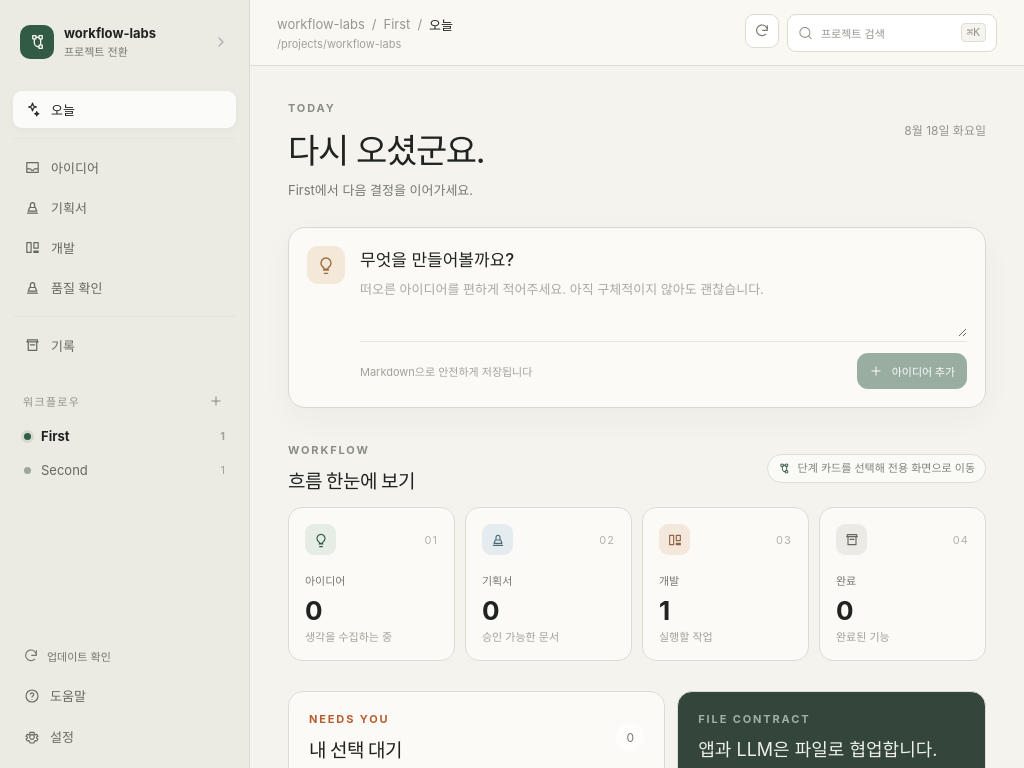
Test: WorkspaceShell › isolates an opened and an in-flight task detail when the workflow changes
Click the button "개발": (124,248) [13,229,236,266]
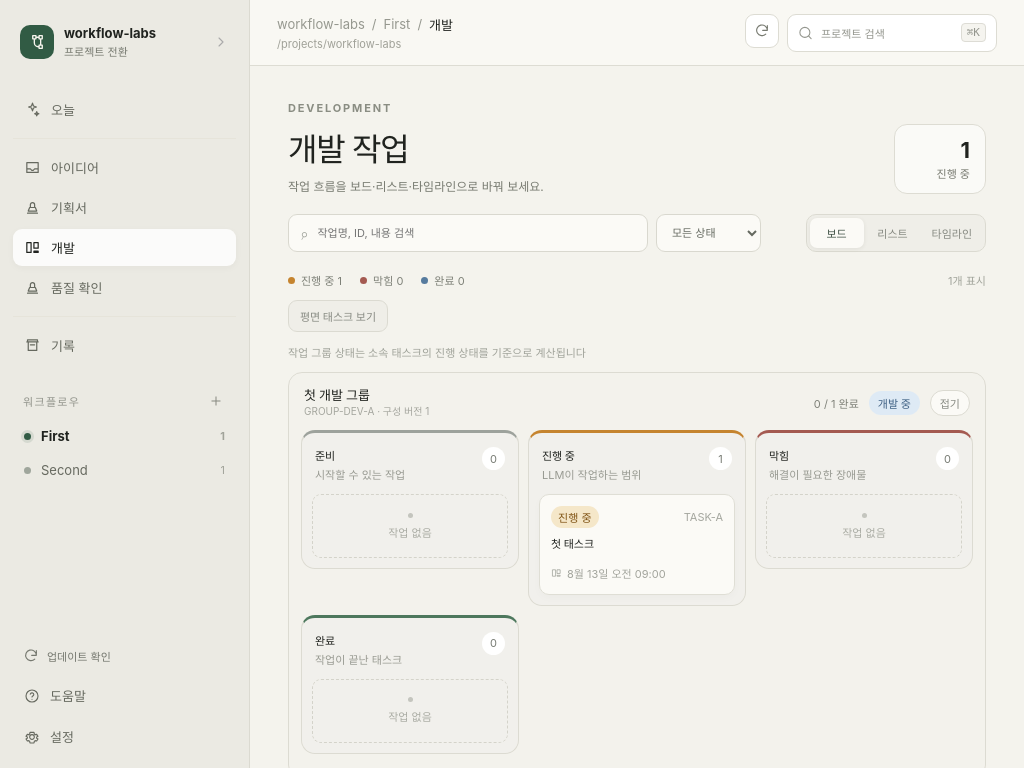
Click the button "첫 태스크": (637,544) [539,494,735,595]
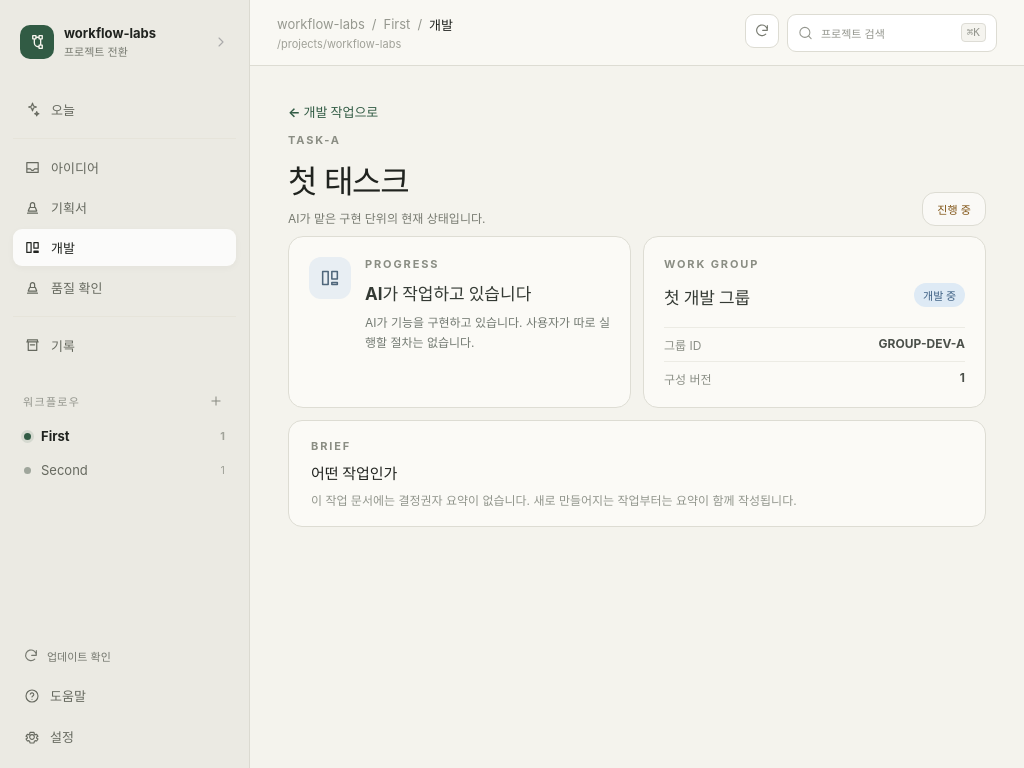
Expected: the heading "첫 태스크" is shown, [288,162,408,201]
Click the button "Second 1": (124,470) [13,453,236,487]
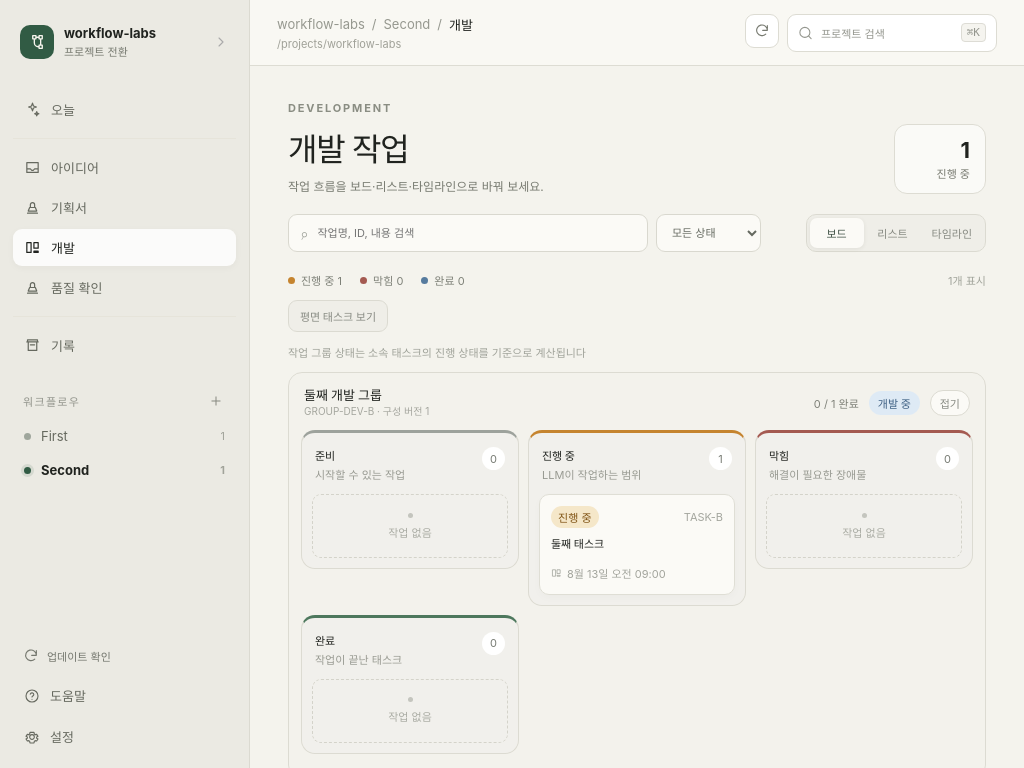
Expected: the heading "개발 작업" is shown, [288,130,408,169]
Expected: the heading "첫 태스크" is gone
Expected: the text "둘째 개발 그룹" is shown, [304,387,382,403]
Click the button "First 1": (124,436) [13,419,236,453]
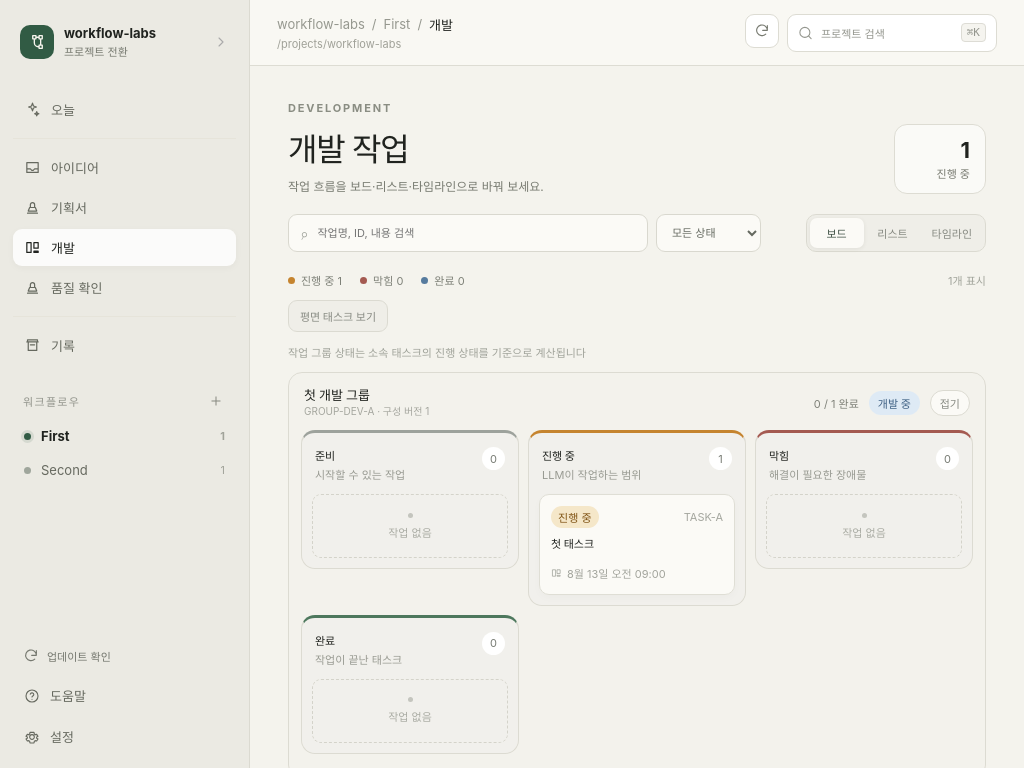
Click the button "첫 태스크": (637,544) [539,494,735,595]
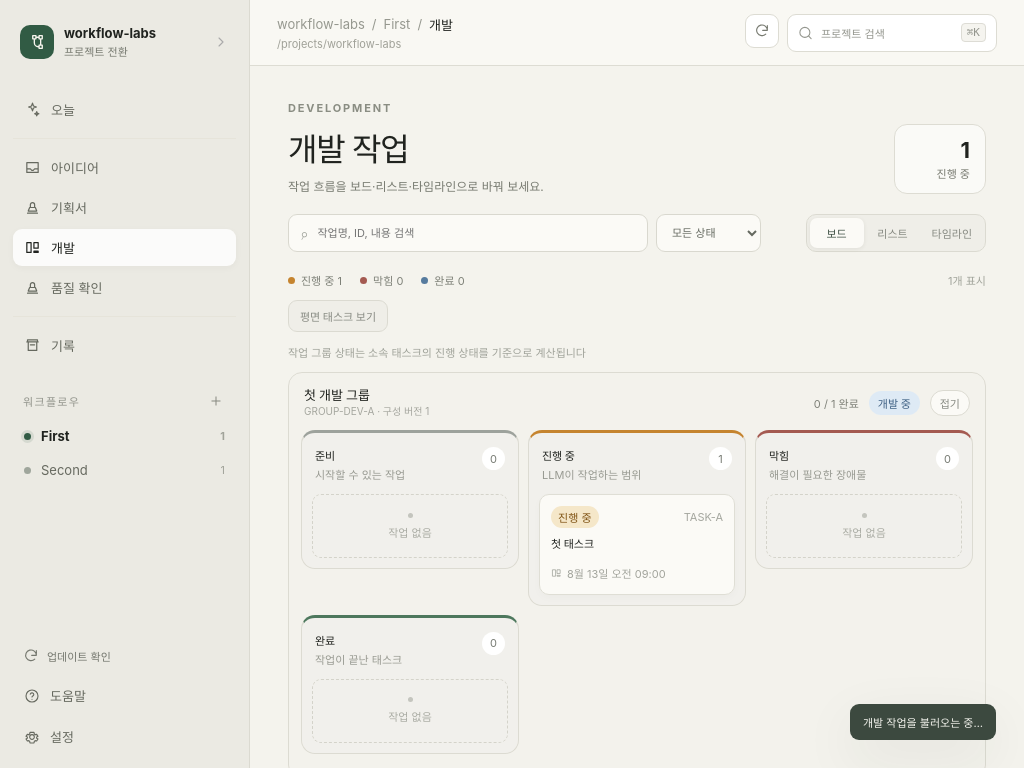
Click the button "Second 1": (124,470) [13,453,236,487]
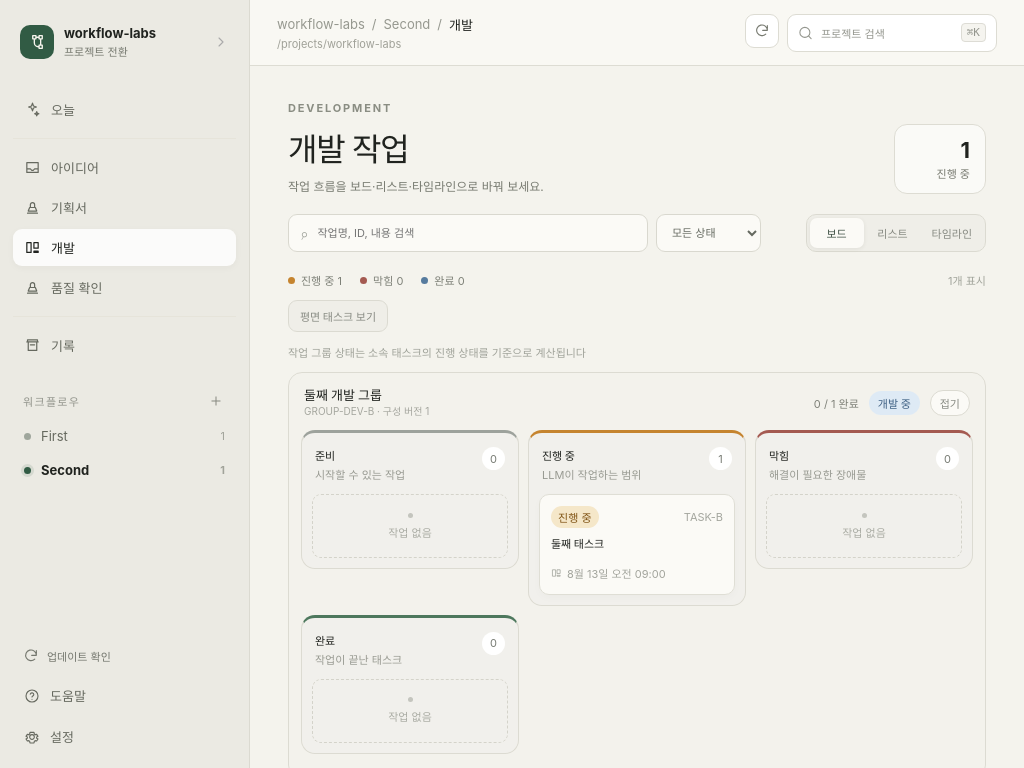
Expected: the heading "개발 작업" is shown, [288,130,408,169]
Expected: the button "첫 태스크" is gone
Expected: the text "둘째 태스크" is shown, [551,537,604,551]
